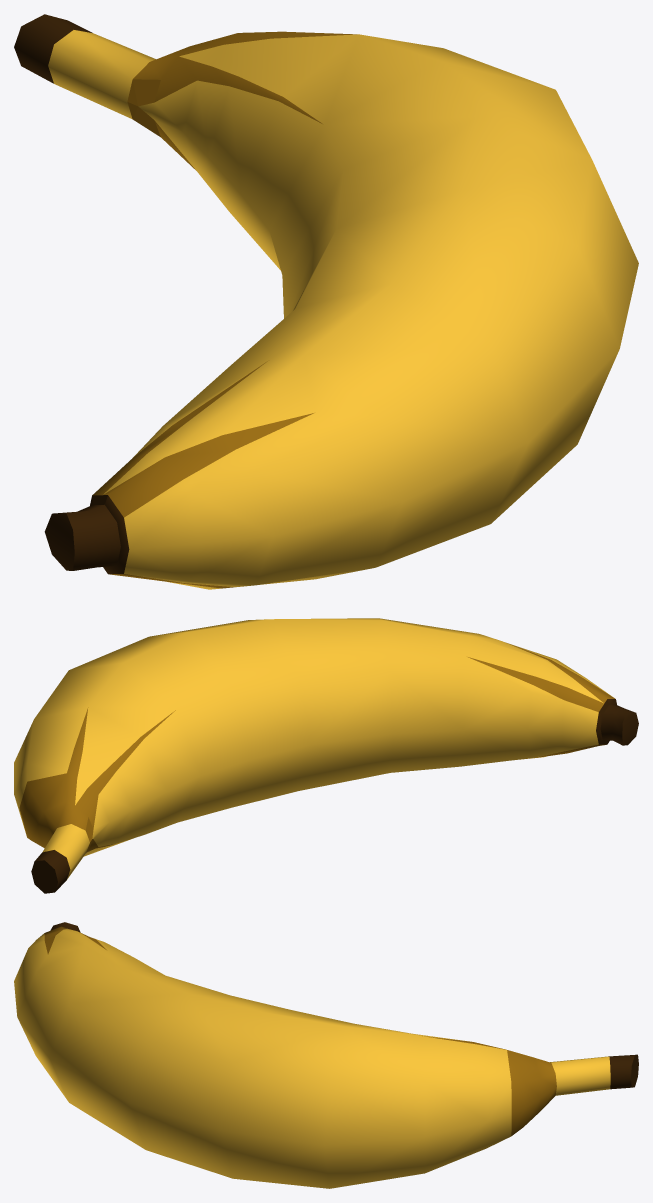
Rendered from BananaFixed.fbx.
The picture shows the model from 3 angles, top to bottom: view 1: azimuth 30°, elevation 25°; view 2: azimuth 150°, elevation 25°; view 3: azimuth 270°, elevation 25°; orthographic projection. The views are drawn at different scales.
Parts seen in each view (by area): view 1: Banana; view 2: Banana; view 3: Banana.
Part boxes in pixels (box(x1,y1,x2,y2)): Banana: box(14, 14, 638, 589); Banana: box(14, 618, 638, 893); Banana: box(14, 922, 638, 1188).
Size of the model in its own units: 3895 by 1469 by 4922.
